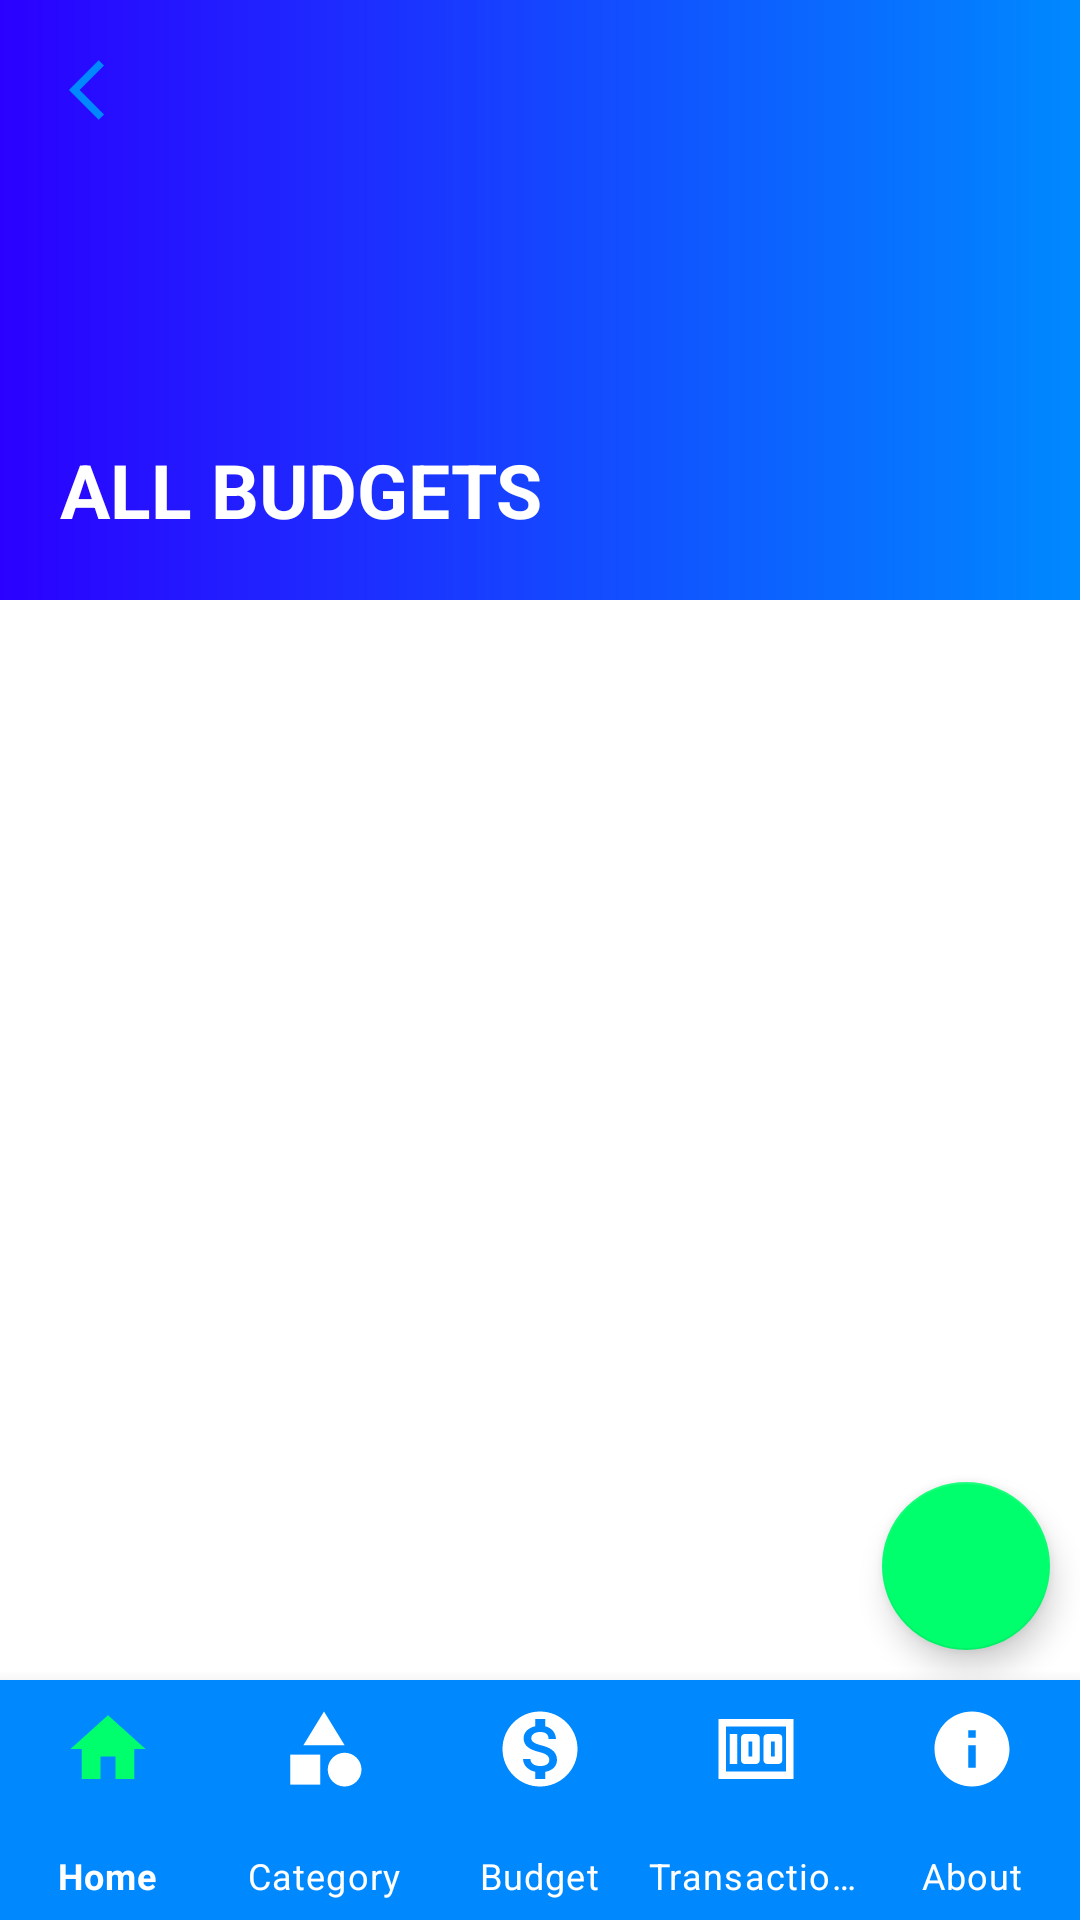

Point at icon controls on the screen. Image size 1080px×1920px, points as [x,y].
back: [86,90]
